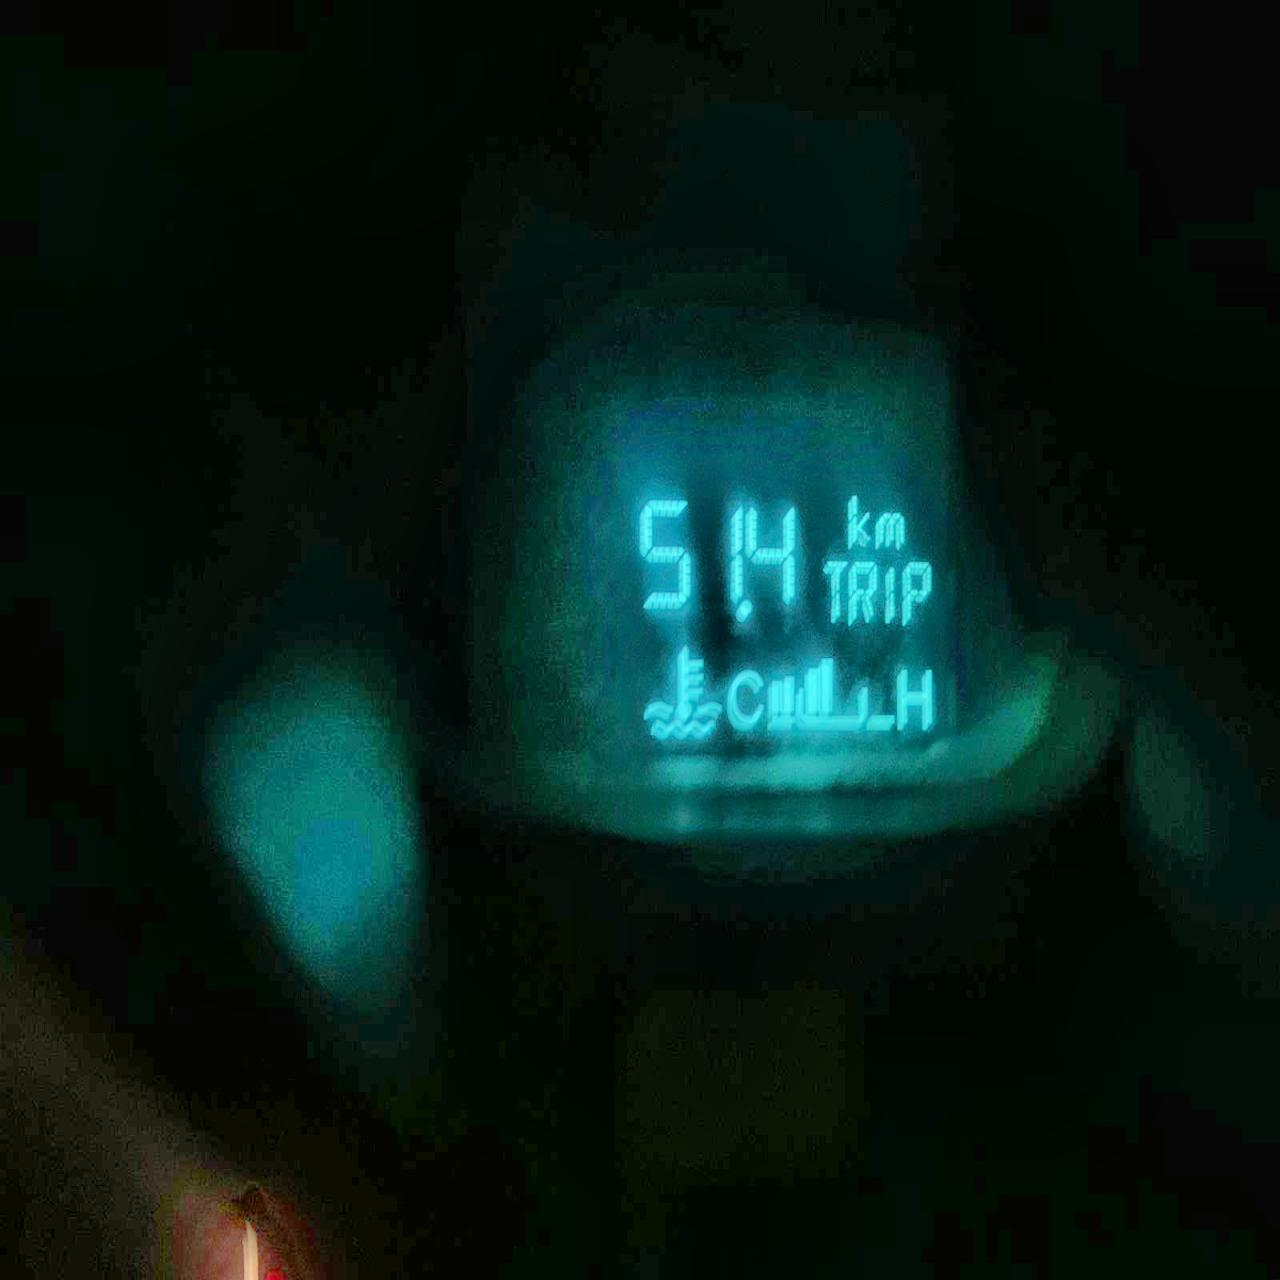-: (737, 598, 754, 621)
1: (727, 501, 742, 602)
4: (744, 499, 805, 605)
5: (634, 484, 696, 620)
X: (894, 659, 933, 733), (727, 665, 764, 734), (900, 557, 933, 628), (849, 558, 881, 626), (823, 557, 846, 625), (846, 492, 871, 550), (874, 510, 904, 549), (884, 561, 898, 624)
odometer: (594, 447, 979, 788)
